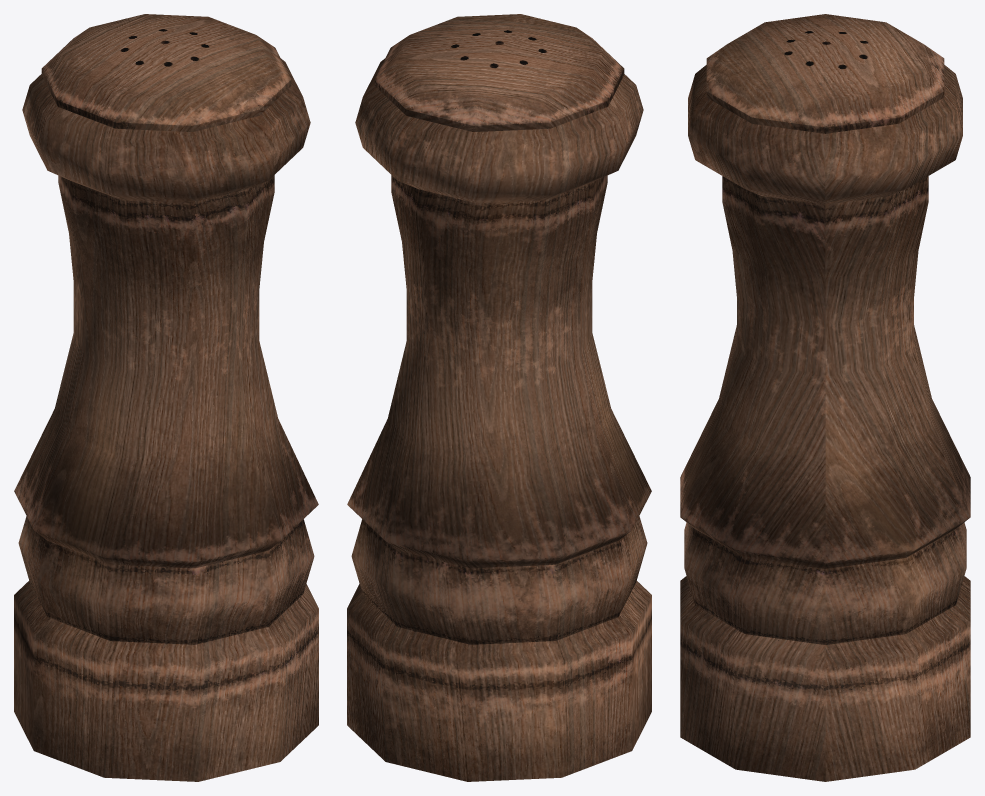
The model's file is Caster01.FBX.
3 renders of one model, left to right at view 1: azimuth 30°, elevation 25°; view 2: azimuth 150°, elevation 25°; view 3: azimuth 270°, elevation 25°, orthographic.
Parts seen in each view (by area): view 1: Caster01_LOD0; view 2: Caster01_LOD0; view 3: Caster01_LOD0.
Boxes of the visible parts, left/top/right/bottom form: Caster01_LOD0: left=14, top=14, right=318, bottom=781; Caster01_LOD0: left=347, top=14, right=651, bottom=781; Caster01_LOD0: left=680, top=14, right=970, bottom=781.
Bounding box in the file's own units: 4.63 × 4.4 × 11.28.
